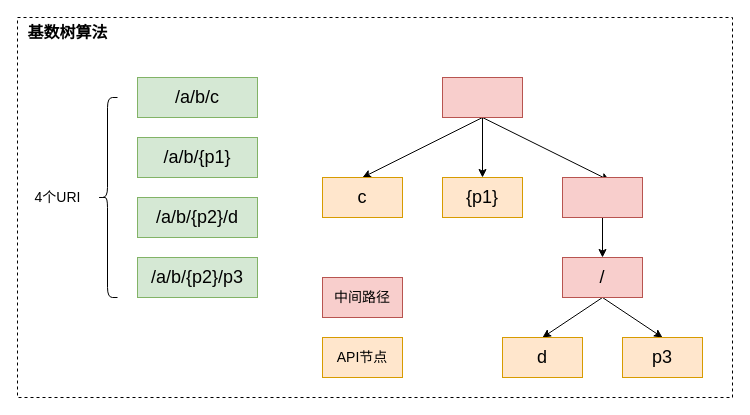
Image size: 750x415. Some labels were removed from this diagram. The centre of each missing label's shape, as x and y in pixels:
"/a/b/" goes at [482,97].
"{p2}" goes at [602,197].
